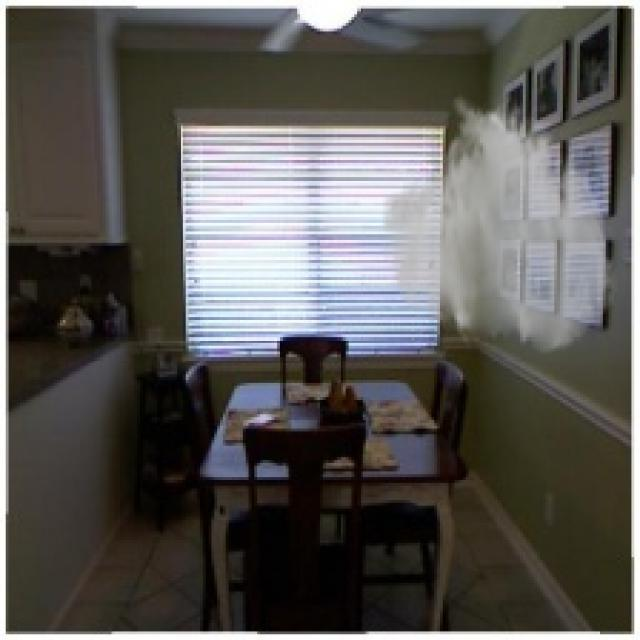smoke: (377, 92, 617, 357)
